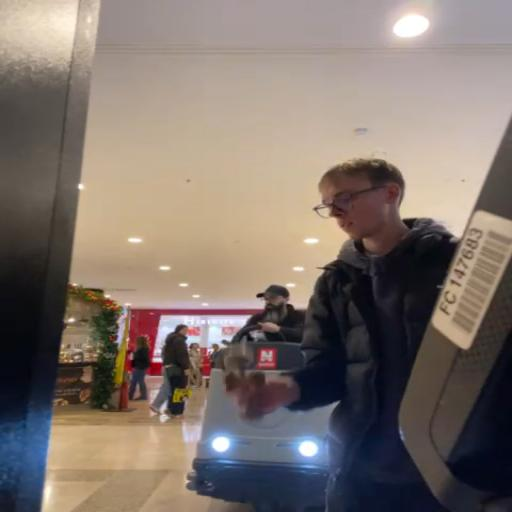kendama_ball: (224, 345, 253, 371)
